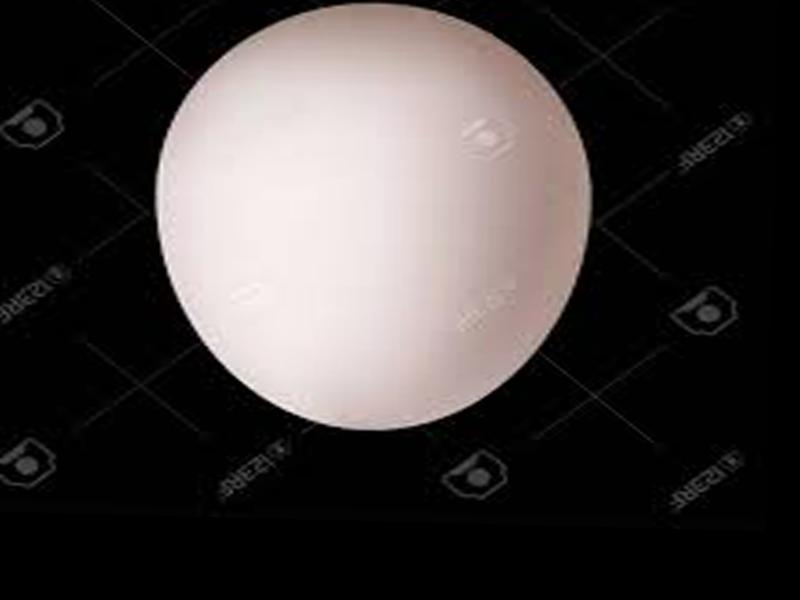Eggs: (152, 0, 589, 432)
